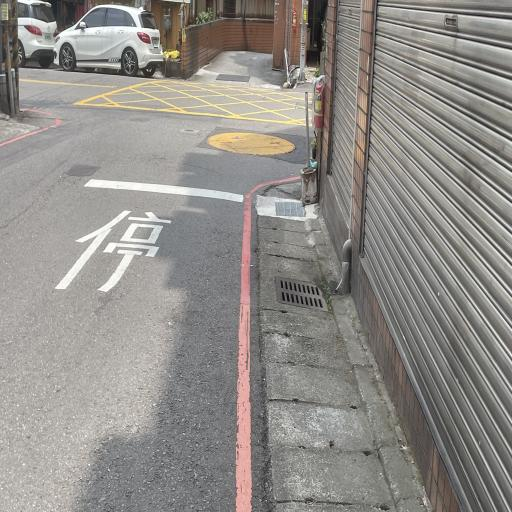car: (52, 0, 162, 84), (8, 0, 60, 69)
redline: (230, 161, 303, 512), (0, 100, 65, 148)
